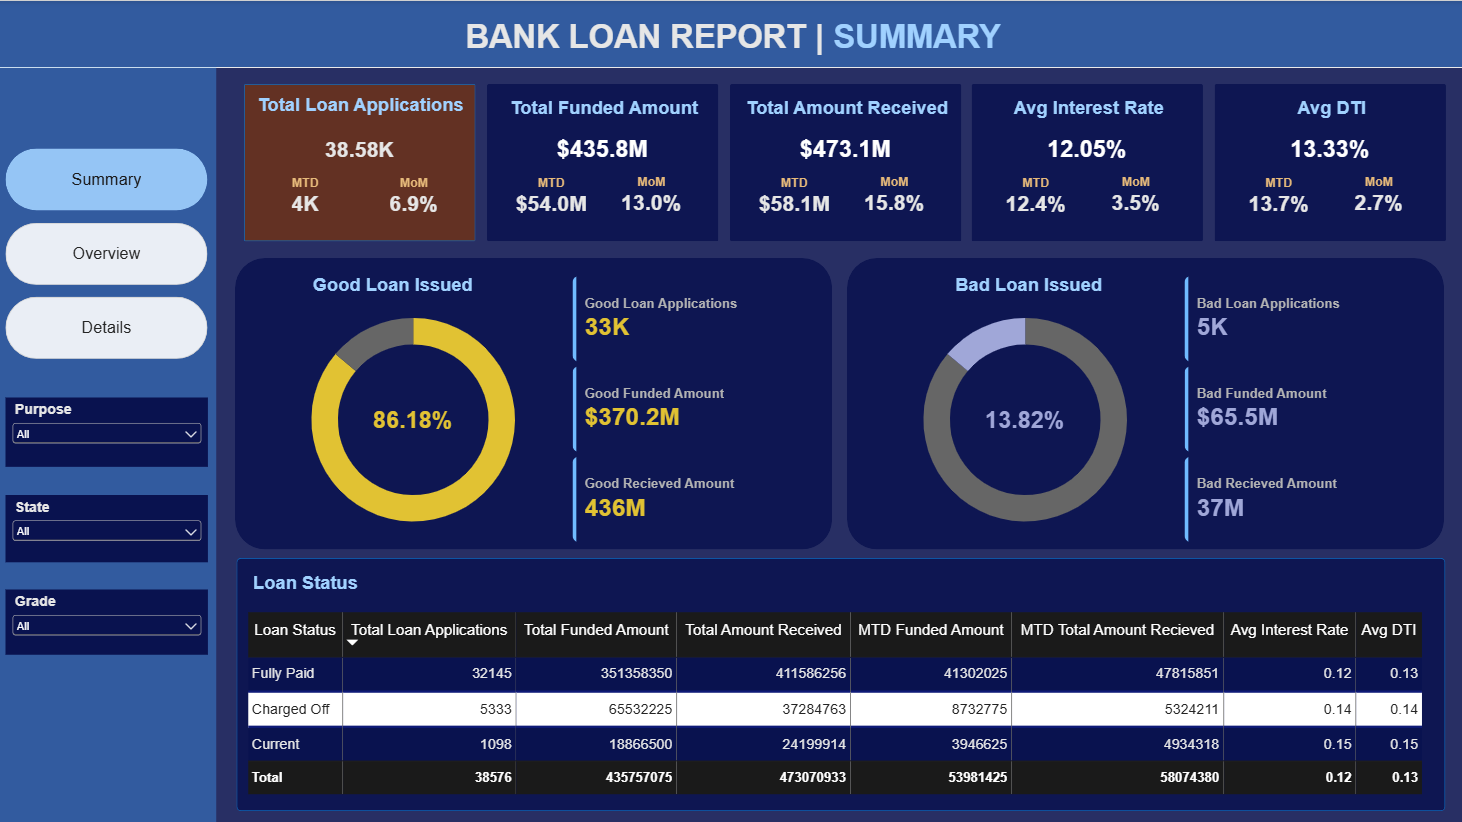

The dashboard page shown, as its layout file describes it:
{"tool":"powerbi","page":{"name":"Summary","canvas":[1920,1080],"ordinal":0},"visuals":[{"type":"shape","box":[0,0,1919.3,88.6],"z":0},{"type":"shape","box":[956.4,110,302.6,205.8],"z":0,"group":"g5"},{"type":"shape","box":[1273.7,110,302.6,205.8],"z":0,"group":"g6"},{"type":"shape","box":[1590.2,110,302.6,205.8],"z":0,"group":"g7"},{"type":"shape","box":[311.3,729,1580.6,331],"z":0,"group":"g1"},{"type":"shape","box":[0,88.3,285.5,991.6],"z":1000},{"type":"cardVisual","fields":{"Data":["bank_loan.Total Amount Received"]},"box":[956.4,164.4,302.6,59.1],"z":1000,"group":"g5"},{"type":"cardVisual","fields":{"Data":["bank_loan.Avg Interest Rate"]},"box":[1273.7,164.4,302.6,59.1],"z":1000,"group":"g6"},{"type":"cardVisual","fields":{"Data":["bank_loan.Avg DTI"]},"box":[1590.2,164.4,302.6,59.1],"z":1000,"group":"g7"},{"type":"textbox","box":[472.4,22.7,976.7,65.9],"z":2000},{"type":"cardVisual","fields":{"Data":["bank_loan.MTD Total Amount Recieved"]},"box":[974.3,213.6,133.7,85.1],"z":2000,"group":"g5"},{"type":"cardVisual","fields":{"Data":["bank_loan.MTD Avg Int Rate"]},"box":[1291.6,213.6,133.7,85.1],"z":2000,"group":"g6"},{"type":"cardVisual","fields":{"Data":["bank_loan.MTD Avg DTI"]},"box":[1608.1,213.6,133.7,85.1],"z":2000,"group":"g7"},{"type":"shape","box":[321.9,110,302.6,205.8],"z":2500,"group":"g3"},{"type":"shape","box":[639.1,110,302.6,205.8],"z":2500,"group":"g2"},{"type":"shape","box":[310,337.3,780.8,381],"z":2500,"group":"g8"},{"type":"shape","box":[1109.9,338.5,780.8,381],"z":2500,"group":"g9"},{"type":"group","id":"g1","title":"Group 3","box":[310,110,1586.7,950],"z":3000},{"type":"cardVisual","fields":{"Data":["bank_loan.Total Loan Applications"]},"box":[321.9,164.4,302.6,59.1],"z":3000,"group":"g3"},{"type":"cardVisual","fields":{"Data":["bank_loan.Total Funded Amount"]},"box":[639.1,164.4,302.6,59.1],"z":3000,"group":"g2"},{"type":"slicer","fields":{"Values":["bank_loan.grade"]},"box":[10.4,771,264.8,85.7],"z":3000,"group":"g4"},{"type":"group","id":"g2","title":"Group 1","box":[639.1,110,302.6,205.8],"z":4000,"group":"g1"},{"type":"pageNavigator","box":[10.4,194.7,264.8,277.8],"z":4000},{"type":"cardVisual","fields":{"Data":["bank_loan.MTD Funded Amount"]},"box":[657,213.6,133.7,85.1],"z":4000,"group":"g2"},{"type":"cardVisual","fields":{"Data":["bank_loan.MoM Total Amount Recieved"]},"box":[1110.4,213.6,124.3,85.1],"z":4000,"group":"g5"},{"type":"cardVisual","fields":{"Data":["bank_loan.MoM Avg Int Rate"]},"box":[1427.7,213.6,124.3,85.1],"z":4000,"group":"g6"},{"type":"cardVisual","fields":{"Data":["bank_loan.MoM Avg DTI"]},"box":[1744.2,213.6,124.3,85.1],"z":4000,"group":"g7"},{"type":"cardVisual","fields":{"Data":["bank_loan.MTD Loan Applications"]},"box":[340.7,214.1,122,85.1],"z":4000,"group":"g3"},{"type":"slicer","fields":{"Values":["bank_loan.address_state"]},"box":[10.4,646.4,264.8,88.3],"z":4000,"group":"g4"},{"type":"group","id":"g3","title":"Group 1","box":[319.7,110,308.9,205.8],"z":5000,"group":"g1"},{"type":"textbox","box":[976.6,128.4,267.4,44.9],"z":5000,"group":"g5"},{"type":"textbox","box":[1293.9,128.4,267.4,44.9],"z":5000,"group":"g6"},{"type":"textbox","box":[1610.4,128.4,267.4,44.9],"z":5000,"group":"g7"},{"type":"group","id":"g4","title":"Group 4","box":[10.4,519.2,264.8,337.5],"z":5000},{"type":"slicer","fields":{"Values":["bank_loan.purpose"]},"box":[10.4,519.2,264.8,90.9],"z":5000,"group":"g4"},{"type":"group","id":"g5","title":"Group 1","box":[956.4,110,302.6,205.8],"z":6000,"group":"g1"},{"type":"cardVisual","fields":{"Data":["bank_loan.MoM Total Funded Amount"]},"box":[793.1,213.6,124.3,85.1],"z":6000,"group":"g2"},{"type":"cardVisual","fields":{"Data":["bank_loan.MoM Loan Applications"]},"box":[490.8,214.1,107.9,85.1],"z":6000,"group":"g3"},{"type":"cardVisual","fields":{"Data":["bank_loan.Good Loan Applications","bank_loan.Good Funded Amount","bank_loan.Good Recieved Amount"]},"box":[751.3,361.5,345.5,348.9],"z":6000,"group":"g8"},{"type":"cardVisual","fields":{"Data":["bank_loan.Bad Loan Applications","bank_loan.Bad Funded Amount","bank_loan.Bad Recieved Amount"]},"box":[1551.2,362.7,345.5,348.9],"z":6000,"group":"g9"},{"type":"group","id":"g6","title":"Group 1","box":[1273.7,110,302.6,205.8],"z":7000,"group":"g1"},{"type":"textbox","box":[319.7,123,308.9,51.9],"z":7000,"group":"g3"},{"type":"textbox","box":[659.3,128.4,267.4,44.9],"z":7000,"group":"g2"},{"type":"textbox","box":[326.8,339.7,377.3,62.7],"z":7000,"group":"g8"},{"type":"textbox","box":[1158.3,339.9,377.3,62.7],"z":7000,"group":"g9"},{"type":"textbox","box":[334.4,730.5,377.3,62.7],"z":8000,"group":"g1"},{"type":"group","id":"g7","title":"Group 1","box":[1590.2,110,302.6,205.8],"z":9000,"group":"g1"},{"type":"group","id":"g8","title":"Group 1","box":[310,337.3,786.8,381],"z":9000,"group":"g10"},{"type":"group","id":"g9","title":"Group 1","box":[1109.9,338.5,786.8,381],"z":9000,"group":"g11"},{"type":"group","id":"g10","title":"Group 2","box":[310,337.3,786.8,381],"z":10000,"group":"g1"},{"type":"donutChart","fields":{"Category":["bank_loan.Good vs Bad Loan"],"Y":["bank_loan.Total Loan Applications"]},"box":[364.3,381.7,356.2,332.8],"z":10000,"group":"g10"},{"type":"donutChart","fields":{"Category":["bank_loan.Good vs Bad Loan"],"Y":["bank_loan.Total Loan Applications"]},"box":[1164.2,382.9,356.2,332.8],"z":10000,"group":"g11"},{"type":"group","id":"g11","title":"Group 2","box":[1109.9,338.5,786.8,381],"z":11000,"group":"g1"},{"type":"cardVisual","fields":{"Data":["bank_loan.Good Loan %"]},"box":[383.4,518.8,320,57.9],"z":11000,"group":"g10"},{"type":"cardVisual","fields":{"Data":["bank_loan.Bad Loan %"]},"box":[1183.3,520,320,57.9],"z":11000,"group":"g11"},{"type":"tableEx","fields":{"Values":["bank_loan.loan_status","bank_loan.Total Loan Applications","bank_loan.Total Funded Amount","bank_loan.Total Amount Received","bank_loan.MTD Funded Amount","bank_loan.MTD Total Amount Recieved","bank_loan.Avg Interest Rate","bank_loan.Avg DTI"]},"box":[310.2,786.9,1571,272.2],"z":12000,"group":"g1"}]}

Visuals, with their boxes in screenshot pixels (x1, y1, x2, y2), scaled from the page's 1920x1080 canvas onto the 1462x822 screenshot:
shape: 0:0:1461:67
shape: 728:84:959:240
shape: 970:84:1200:240
shape: 1211:84:1441:240
shape: 237:555:1441:807
shape: 0:67:217:821
cardVisual - bank_loan.Total Amount Received: 728:125:959:170
cardVisual - bank_loan.Avg Interest Rate: 970:125:1200:170
cardVisual - bank_loan.Avg DTI: 1211:125:1441:170
textbox: 360:17:1103:67
cardVisual - bank_loan.MTD Total Amount Recieved: 742:163:844:227
cardVisual - bank_loan.MTD Avg Int Rate: 983:163:1085:227
cardVisual - bank_loan.MTD Avg DTI: 1225:163:1326:227
shape: 245:84:476:240
shape: 487:84:717:240
shape: 236:257:831:547
shape: 845:258:1440:548
"Group 3" group: 236:84:1444:807
cardVisual - bank_loan.Total Loan Applications: 245:125:476:170
cardVisual - bank_loan.Total Funded Amount: 487:125:717:170
slicer - bank_loan.grade: 8:587:210:652
"Group 1" group: 487:84:717:240
pageNavigator: 8:148:210:360
cardVisual - bank_loan.MTD Funded Amount: 500:163:602:227
cardVisual - bank_loan.MoM Total Amount Recieved: 846:163:940:227
cardVisual - bank_loan.MoM Avg Int Rate: 1087:163:1182:227
cardVisual - bank_loan.MoM Avg DTI: 1328:163:1423:227
cardVisual - bank_loan.MTD Loan Applications: 259:163:352:228
slicer - bank_loan.address_state: 8:492:210:559
"Group 1" group: 243:84:479:240
textbox: 744:98:947:132
textbox: 985:98:1189:132
textbox: 1226:98:1430:132
"Group 4" group: 8:395:210:652
slicer - bank_loan.purpose: 8:395:210:464
"Group 1" group: 728:84:959:240
cardVisual - bank_loan.MoM Total Funded Amount: 604:163:699:227
cardVisual - bank_loan.MoM Loan Applications: 374:163:456:228
cardVisual - bank_loan.Good Loan Applications x bank_loan.Good Funded Amount: 572:275:835:541
cardVisual - bank_loan.Bad Loan Applications x bank_loan.Bad Funded Amount: 1181:276:1444:542
"Group 1" group: 970:84:1200:240
textbox: 243:94:479:133
textbox: 502:98:706:132
textbox: 249:259:536:306
textbox: 882:259:1169:306
textbox: 255:556:542:604
"Group 1" group: 1211:84:1441:240
"Group 1" group: 236:257:835:547
"Group 1" group: 845:258:1444:548
"Group 2" group: 236:257:835:547
donutChart - bank_loan.Good vs Bad Loan x bank_loan.Total Loan Applications: 277:291:549:544
donutChart - bank_loan.Good vs Bad Loan x bank_loan.Total Loan Applications: 886:291:1158:545
"Group 2" group: 845:258:1444:548
cardVisual - bank_loan.Good Loan %: 292:395:536:439
cardVisual - bank_loan.Bad Loan %: 901:396:1145:440
tableEx - bank_loan.loan_status x bank_loan.Total Loan Applications: 236:599:1432:806
